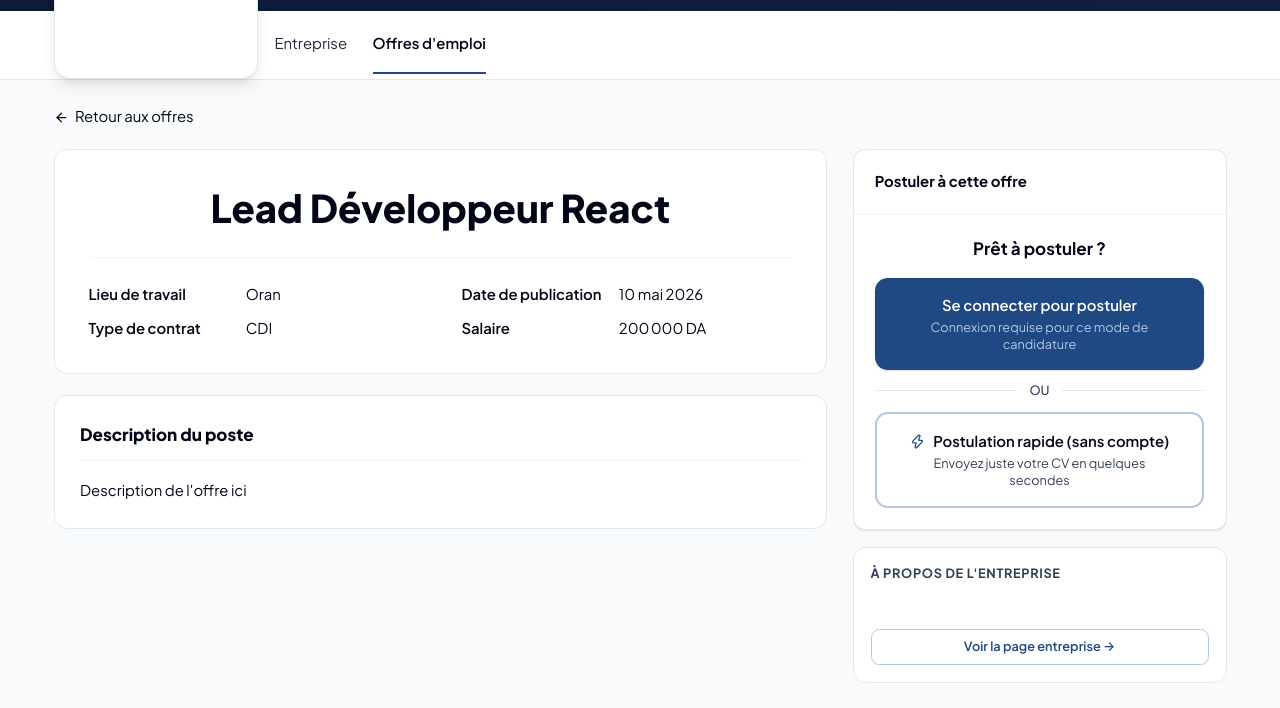
Test: 💼 UI & Logique - Composant <JobDetail /> › 🔴 EC3 : Postulation Express bloquée si CV manquant
(page scrolled)
Check: the heading "Prêt à postuler ?" is shown, box [973,237,1106,259]
Click the text "Postulation rapide (sans compte)" at (1039,442), box [910,431,1169,452]
(page scrolled)
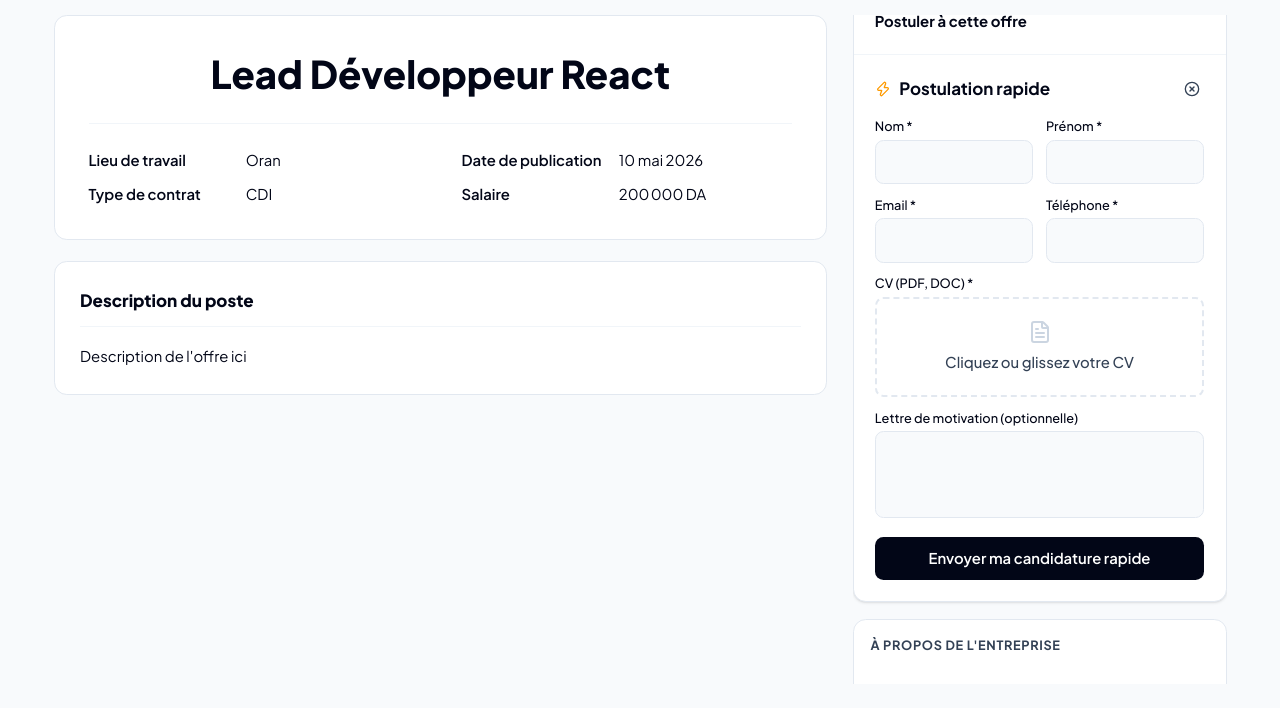
Submit the form, box [875,118,1204,580]
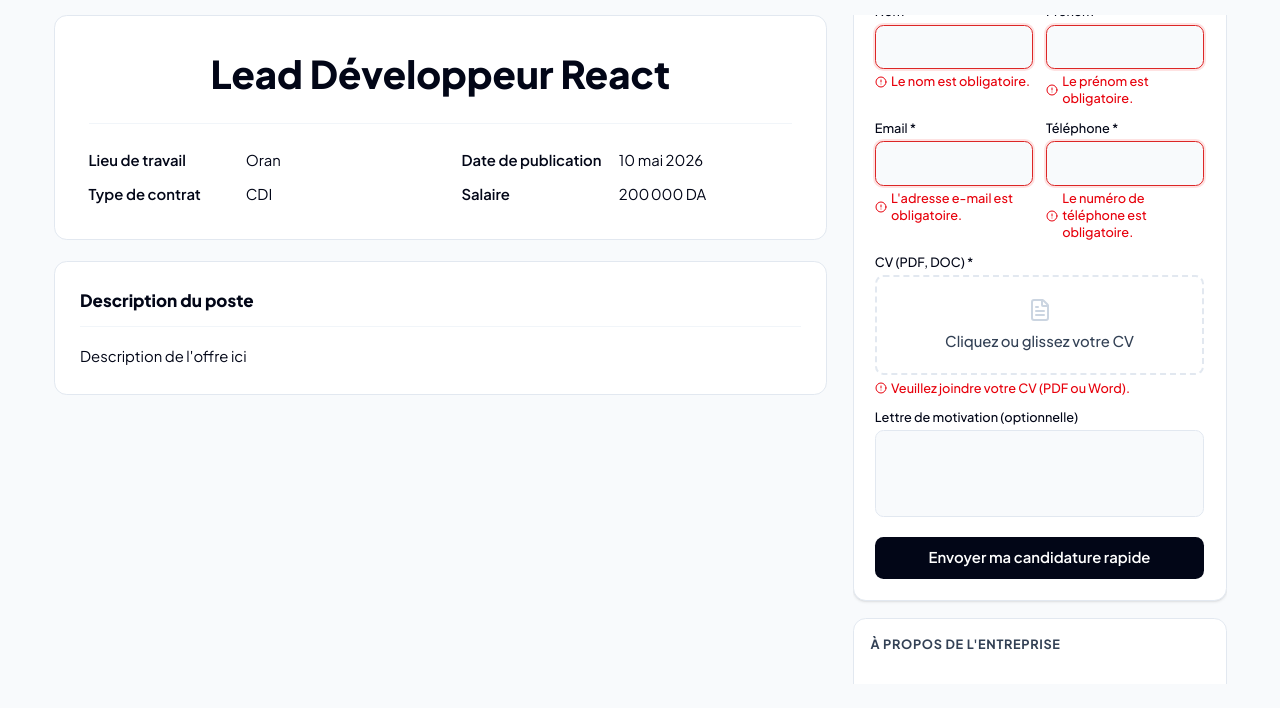
Check: the text "Veuillez joindre votre CV (PDF ou Word)." is shown, box [875,380,1130,396]
Check: the text "Le nom est obligatoire." is shown, box [875,73,1033,90]
Check: the text "L'adresse e-mail est obligatoire." is shown, box [875,190,1033,224]
